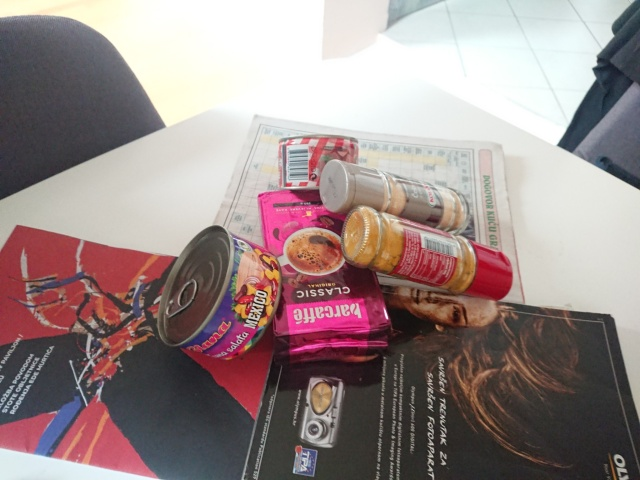Barcaffe Classic Original 225g: (255, 185, 399, 367)
Giana Tuna Salad Mexico 185g: (155, 222, 285, 364)
Kotanyi Curry Spices Mix 70g: (337, 202, 515, 304)
Kotanyi Garlic Granules 70g: (316, 157, 472, 238)
Podravka Luncheon Meat 150g: (275, 132, 364, 193)
